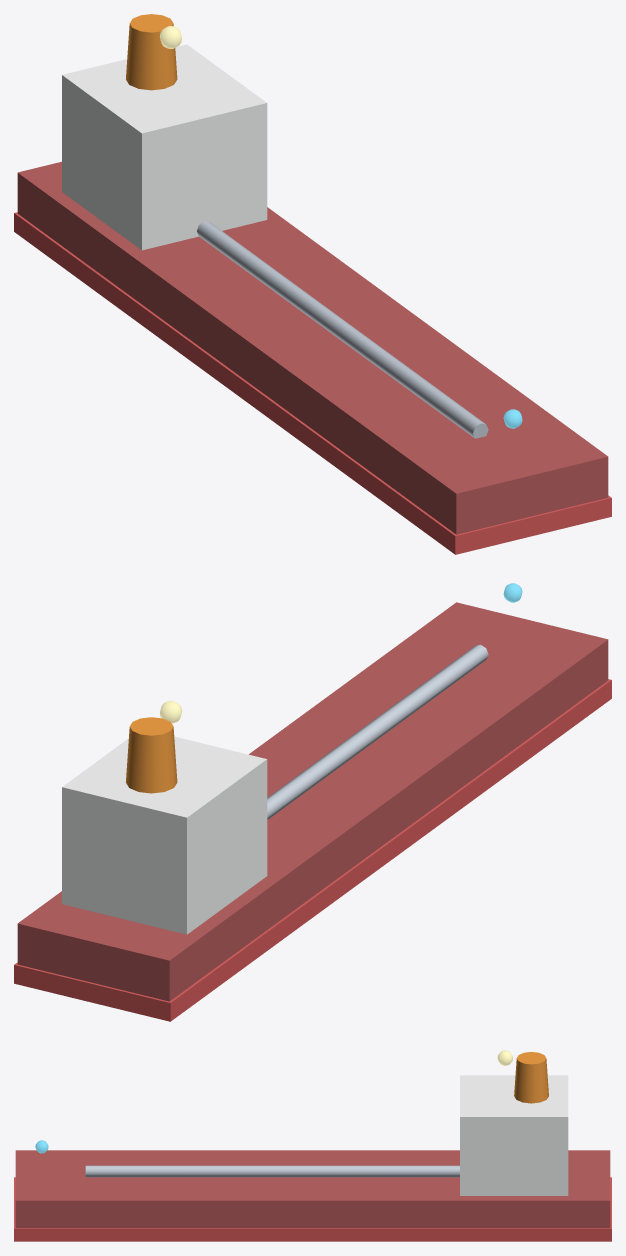
File: tanker.glb
3 renders of one model, top to bottom at view 1: azimuth 30°, elevation 25°; view 2: azimuth 150°, elevation 25°; view 3: azimuth 270°, elevation 25°, orthographic. The views are drawn at different scales.
Parts seen in each view (by area): view 1: hull, bridge, waterline, deckPipe, funnel; view 2: hull, bridge, waterline, deckPipe, funnel; view 3: hull, bridge, waterline, deckPipe, funnel.
Part boxes in pixels (x1=…): hull: x1=17, y1=161, x2=608, y2=534; bridge: x1=62, y1=44, x2=267, y2=250; waterline: x1=14, y1=212, x2=611, y2=554; deckPipe: x1=197, y1=221, x2=488, y2=438; funnel: x1=126, y1=14, x2=177, y2=90; hull: x1=17, y1=602, x2=608, y2=1001; bridge: x1=62, y1=736, x2=267, y2=934; waterline: x1=14, y1=679, x2=611, y2=1021; deckPipe: x1=267, y1=644, x2=488, y2=819; funnel: x1=126, y1=717, x2=177, y2=793; hull: x1=15, y1=1150, x2=610, y2=1228; bridge: x1=460, y1=1075, x2=568, y2=1195; waterline: x1=14, y1=1177, x2=611, y2=1241; deckPipe: x1=85, y1=1165, x2=459, y2=1177; funnel: x1=514, y1=1052, x2=548, y2=1103.
Bounding box in the file's own units: 7 × 10.45 × 34.2.
